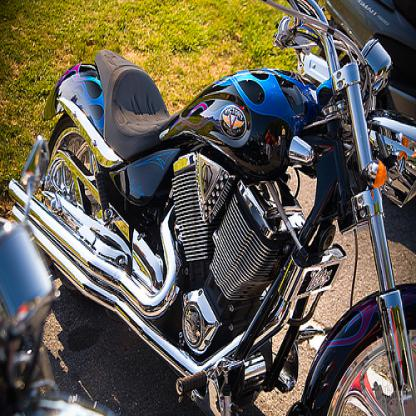motorbike: (16, 0, 414, 415), (0, 128, 116, 414), (275, 0, 412, 205)
